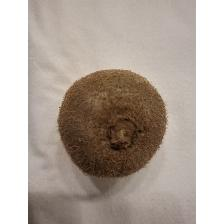Kiwi: (56, 66, 170, 180)
